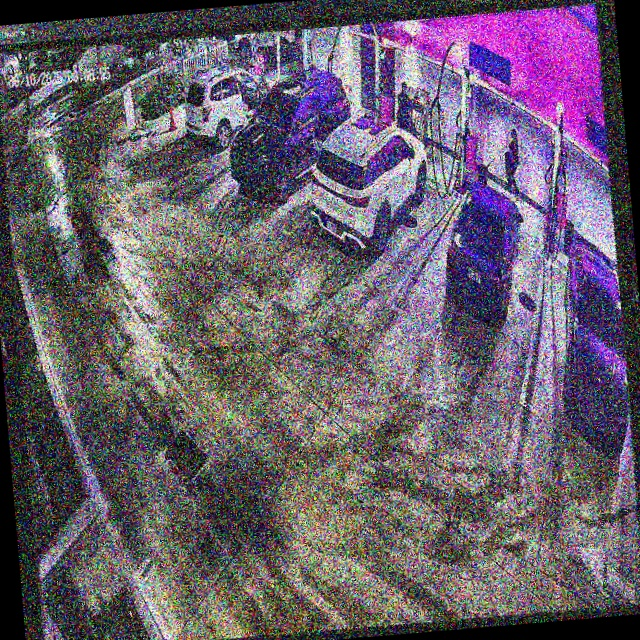Car: (304, 108, 433, 256), (226, 67, 355, 201), (434, 168, 530, 324), (180, 59, 281, 150)
